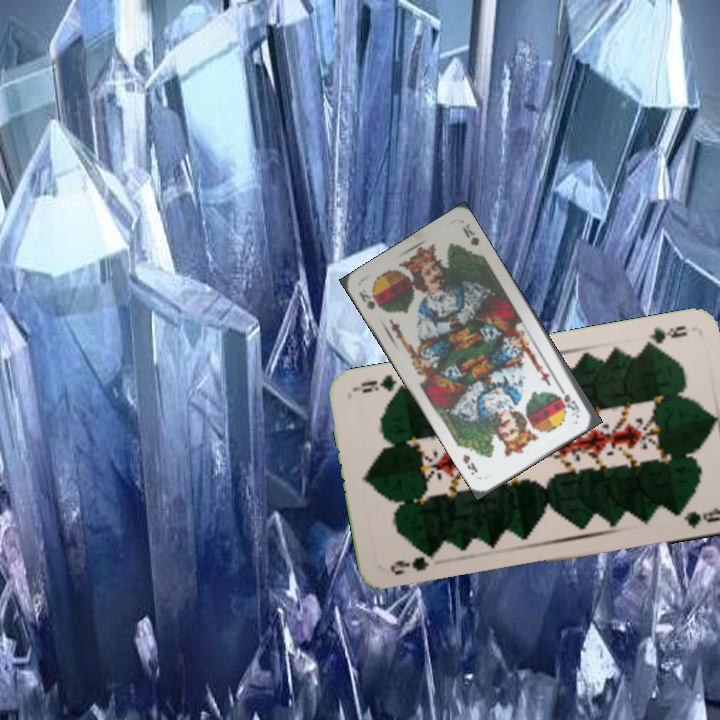G9: (638, 321, 690, 351), (386, 549, 439, 578)
SK: (554, 381, 583, 419), (354, 285, 383, 312)
